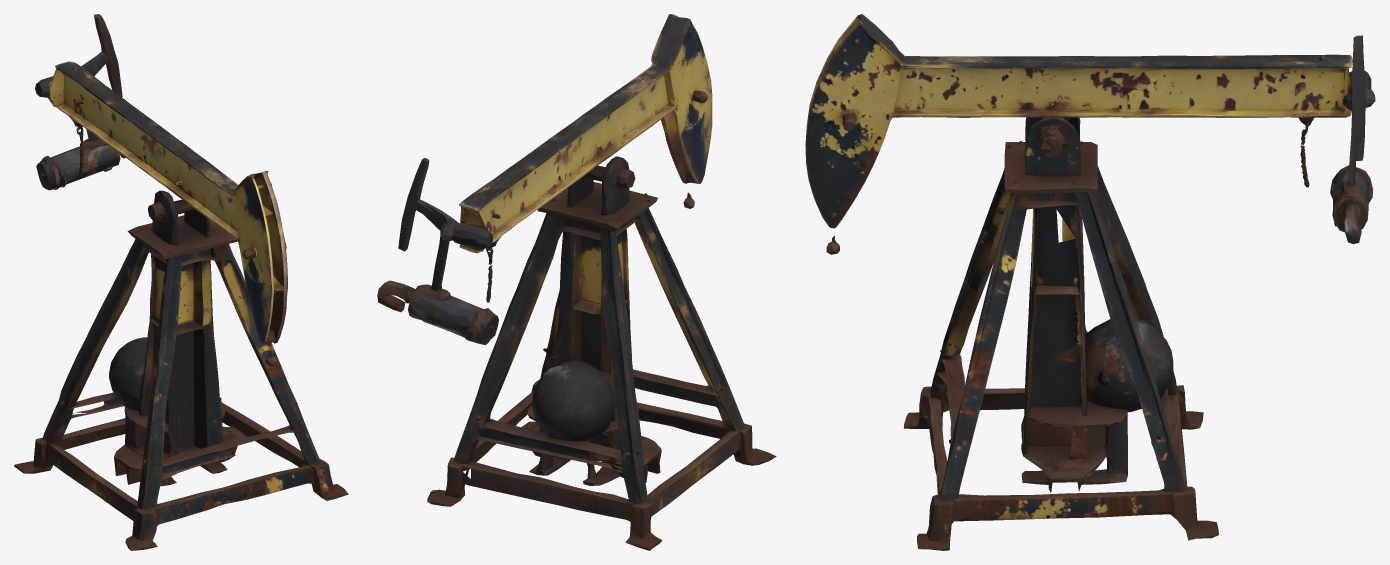
Rendered from oil_pumpjack.glb.
3 renders of one model, left to right at view 1: azimuth 30°, elevation 25°; view 2: azimuth 150°, elevation 25°; view 3: azimuth 270°, elevation 25°, orthographic. The views are drawn at different scales.
Parts seen in each view (by area): view 1: base, beam, crank; view 2: base, beam, crank; view 3: beam, base, crank.
Part boxes in pixels (x1,y1,x2,y2): base: [59, 264, 348, 550]; beam: [35, 14, 287, 343]; crank: [14, 333, 235, 473]; base: [463, 179, 776, 515]; beam: [377, 14, 712, 344]; crank: [427, 359, 666, 550]; beam: [805, 14, 1375, 254]; base: [826, 197, 1186, 550]; crank: [1127, 269, 1218, 540].
Size of the model in its own units: 4.56 by 7.24 by 8.
Materials: 1 (1 with a texture image).
